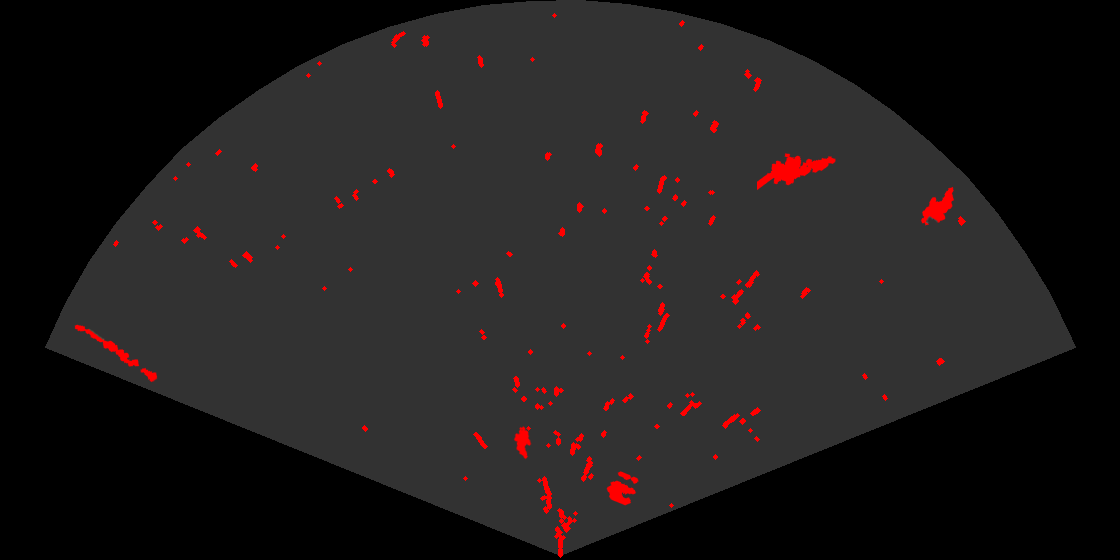AUV: (919, 185, 956, 227), (512, 425, 533, 461)
ball: (605, 470, 640, 507)
chain: (73, 323, 159, 384)
frogman: (757, 152, 837, 192)
